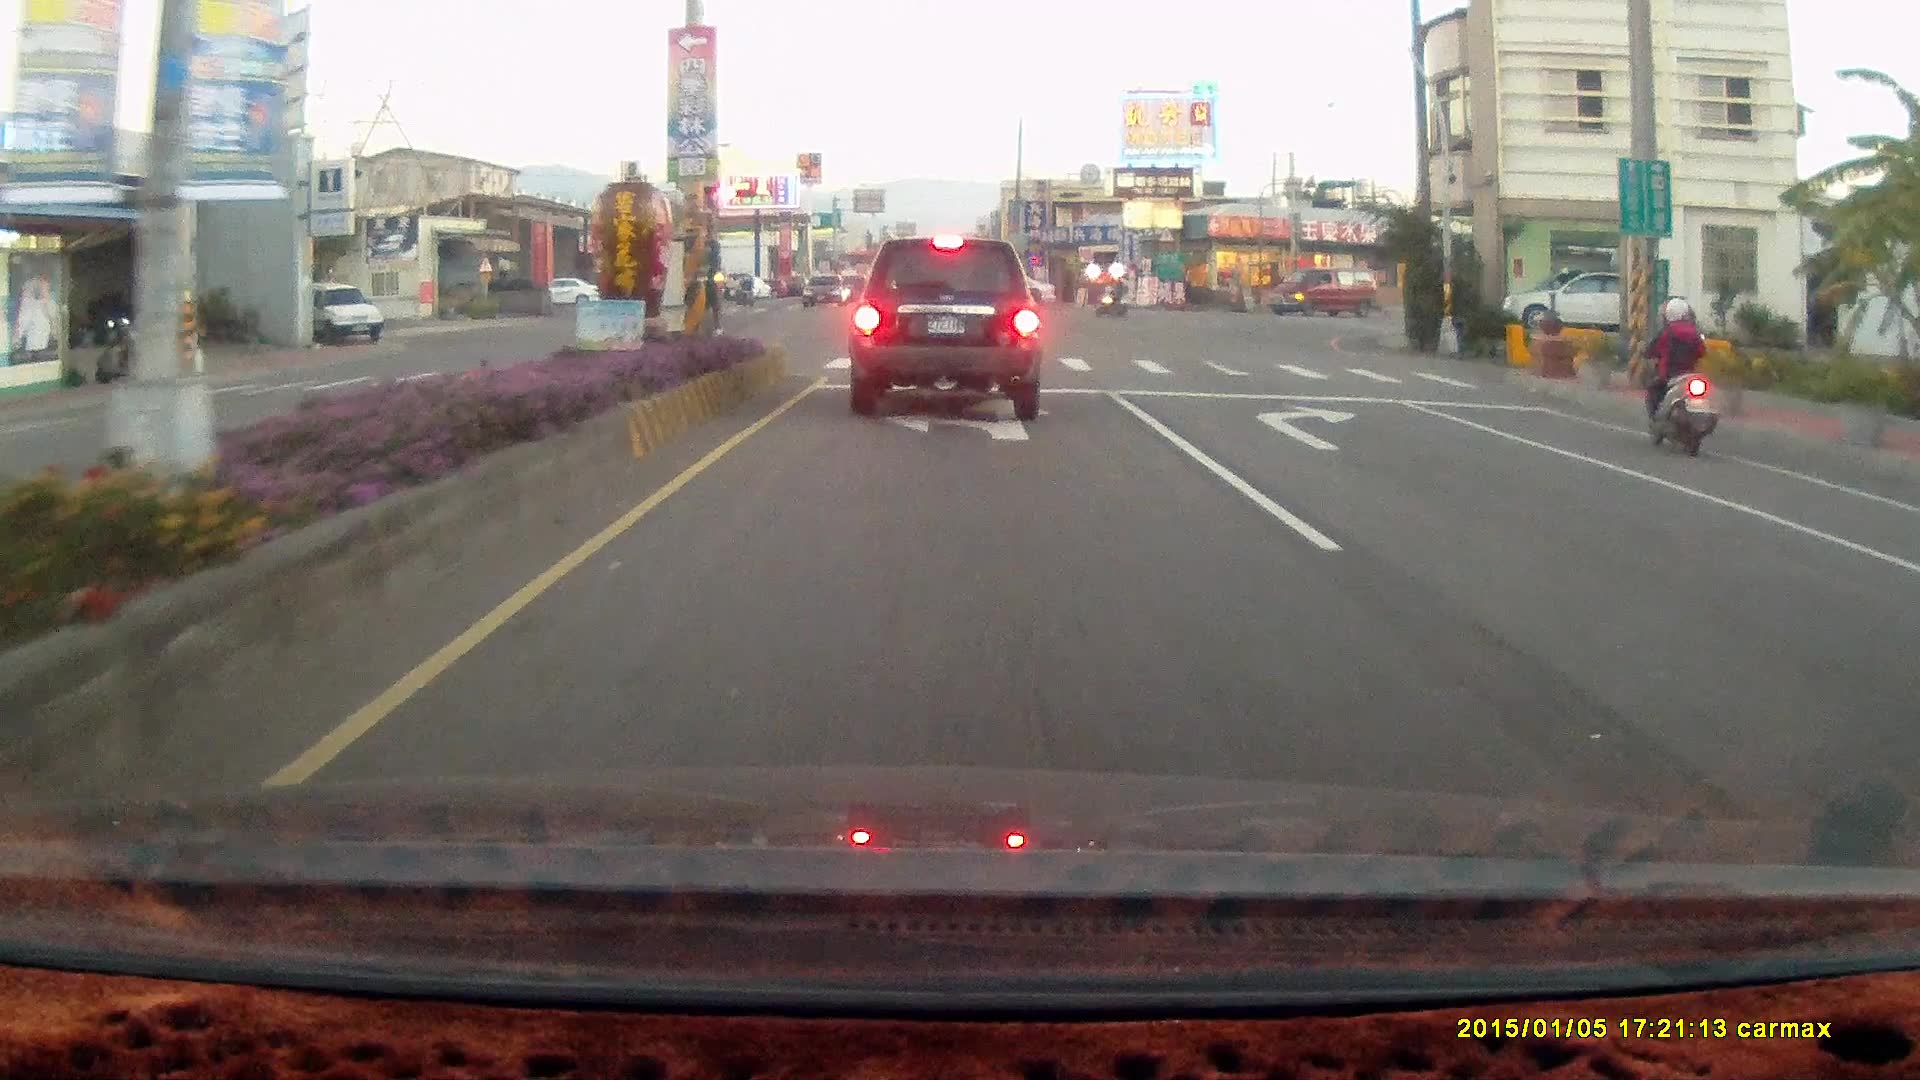rider: (1638, 293, 1716, 458), (1091, 271, 1130, 318)
vehicle: (847, 237, 1043, 421), (1500, 266, 1665, 333), (1896, 493, 1920, 836), (1502, 273, 1632, 334), (1883, 528, 1920, 690), (297, 281, 387, 346), (1267, 266, 1380, 316), (1267, 268, 1374, 317), (943, 273, 1054, 318), (940, 270, 1052, 314)
